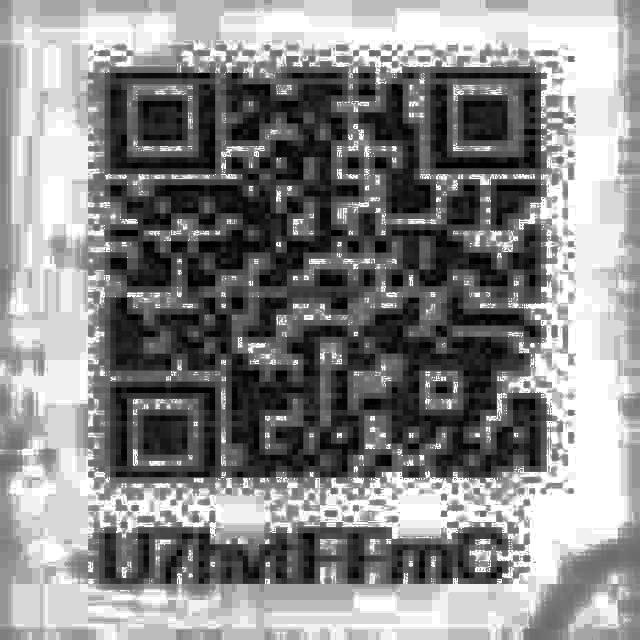qr_code: (96, 56, 562, 488)
